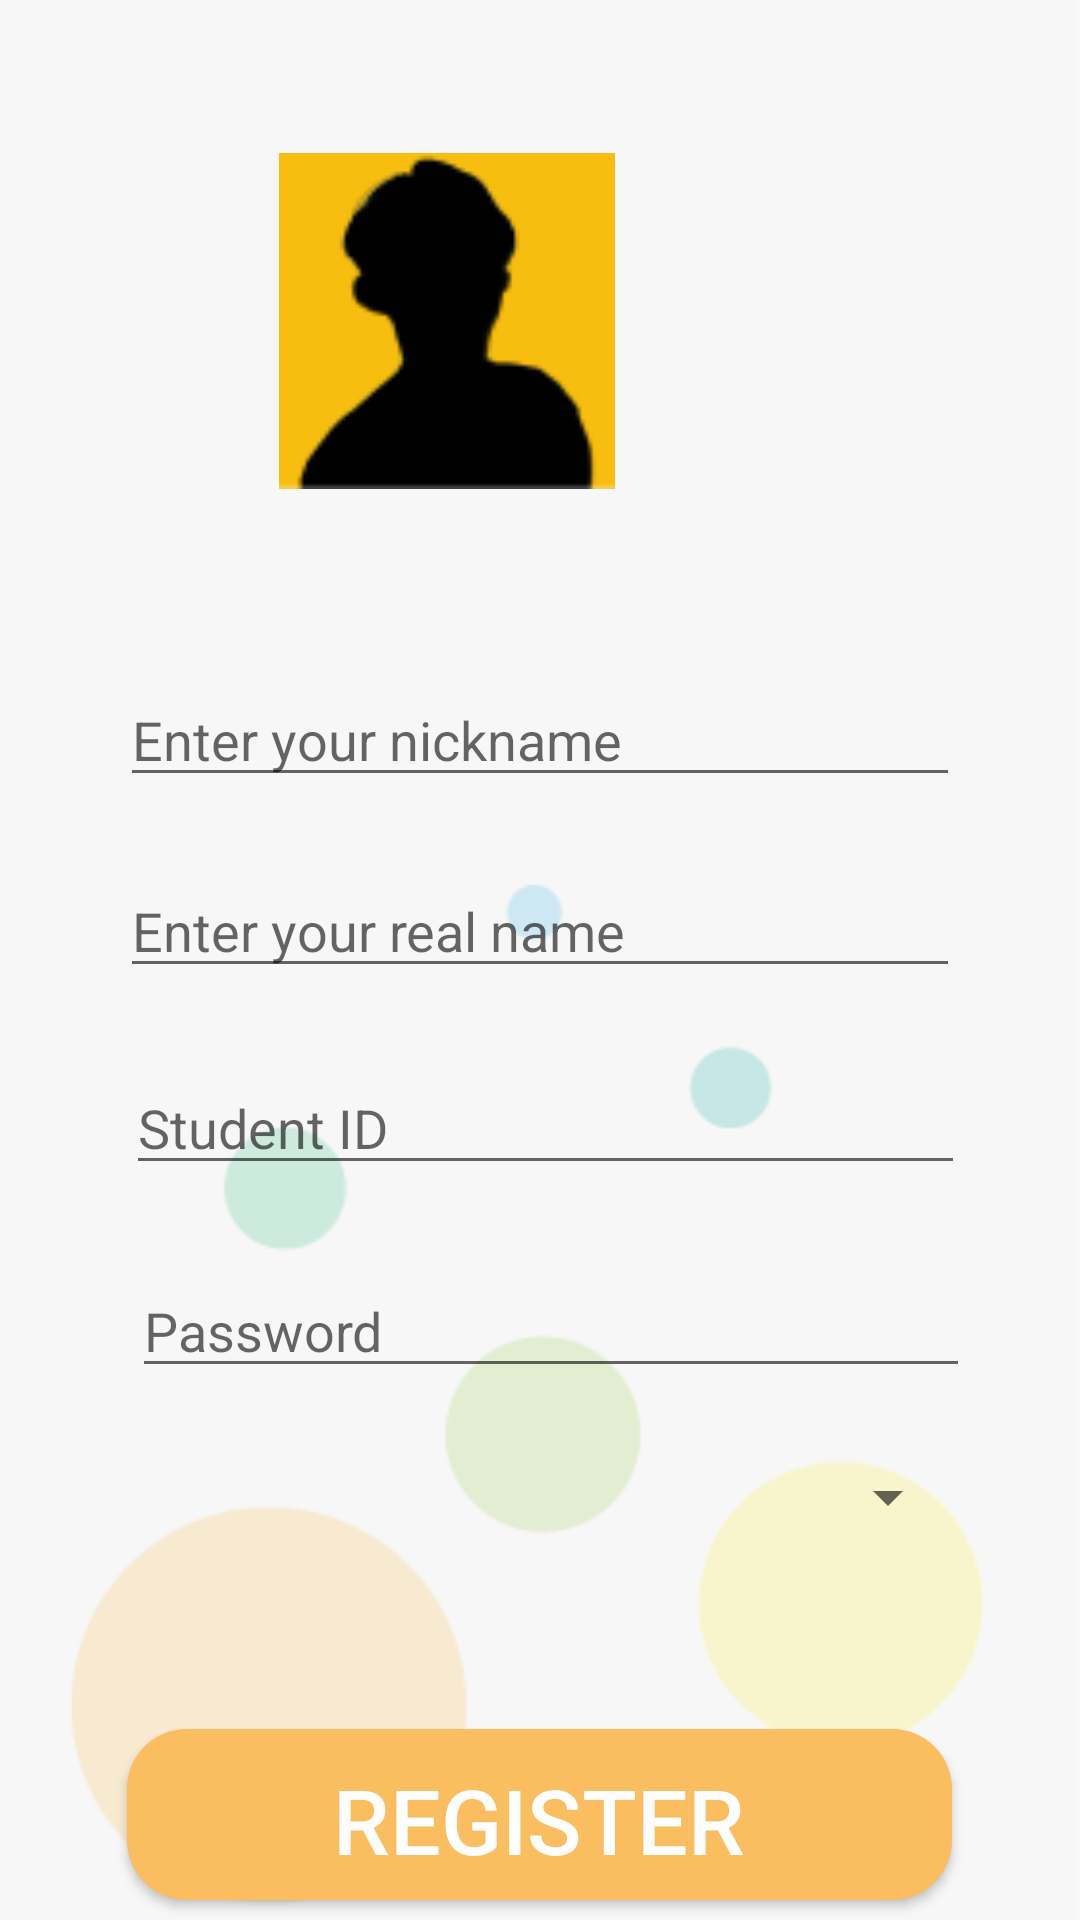

Icon click points for this 1080px x 1920px phone screenshot, format point (x, y):
figure: point (447, 321)
